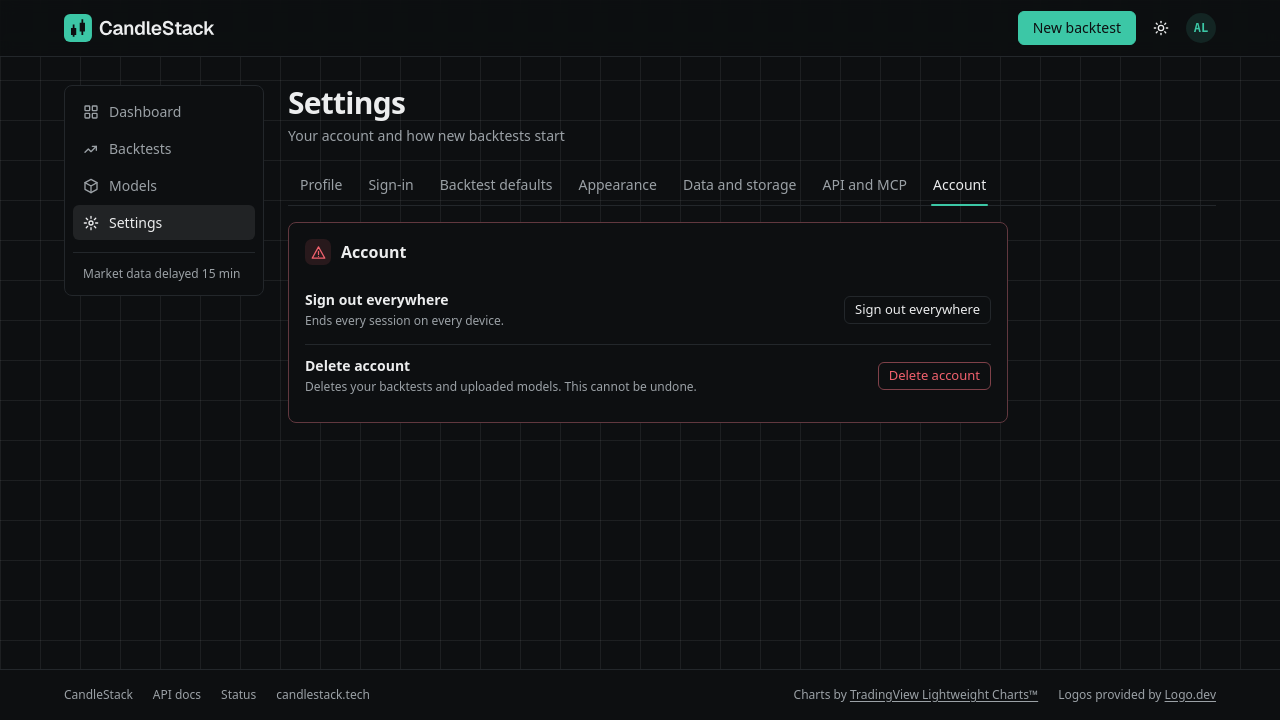
Test case: Account › stays signed in and says why when it cannot sign out everywhere
The image size is (1280, 720).
Click the button "Sign out everywhere" at (918, 310), box 844,296 -> 991,324
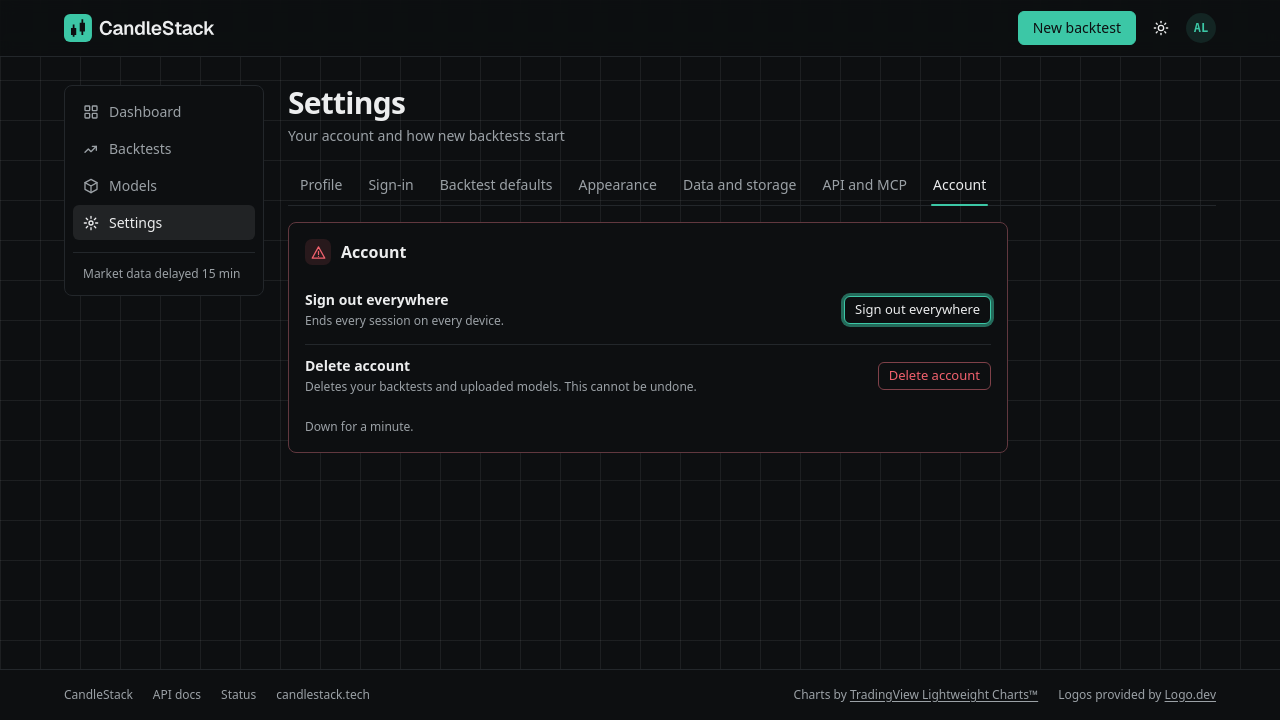
Expected: the message reads "Down for a minute.", 305,418 -> 414,435
